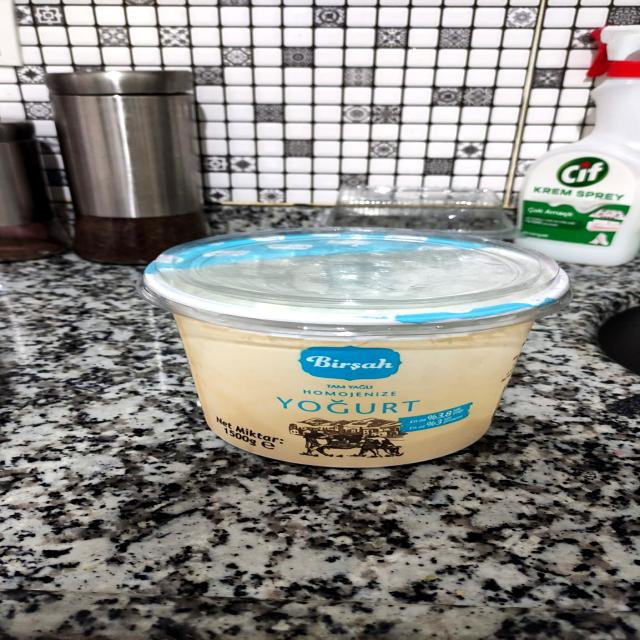yogurt: (124, 224, 568, 477)
